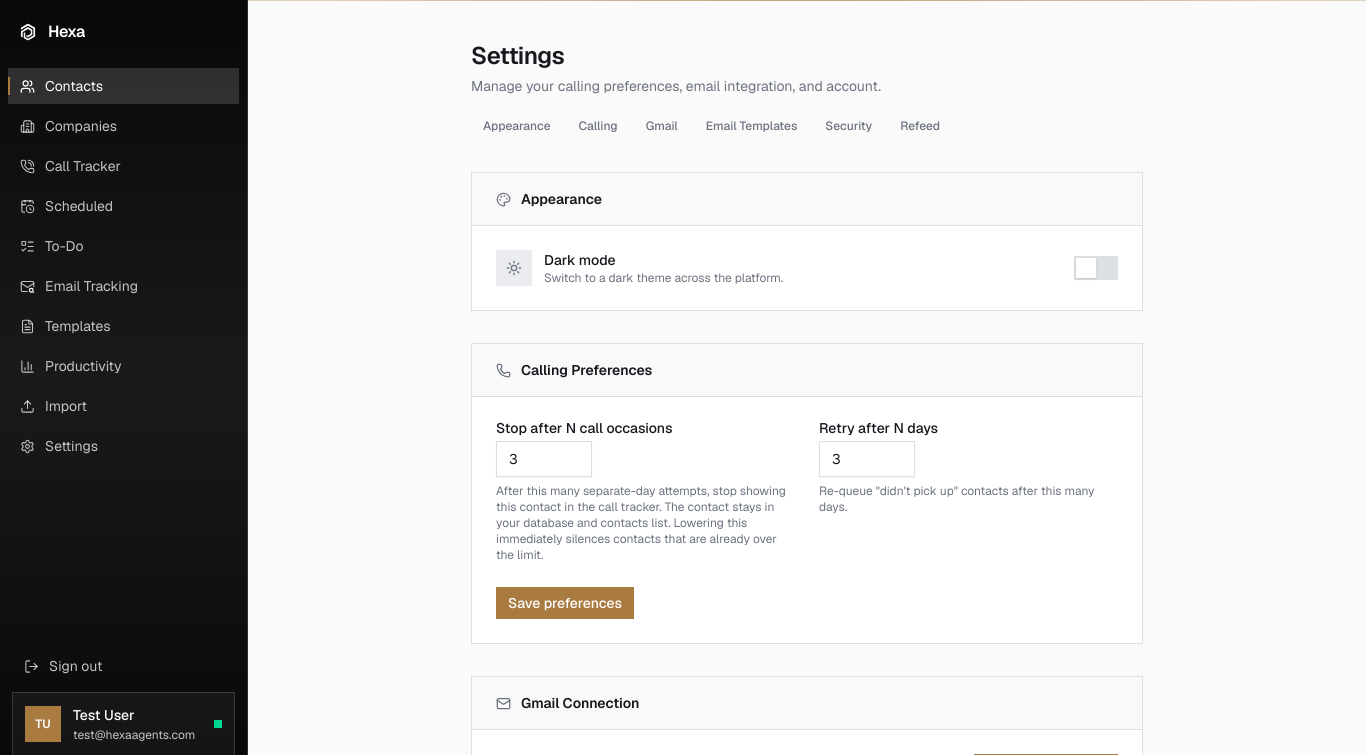
Test: SettingsPage › saves settings on click
The width and height of the screenshot is (1366, 755).
Expected: the number field labelled "Stop after N call occasions" is shown, [496,441,592,477]
What coordinates should you click on to do the following:
click the button "Save preferences"
I would click on:
 (565, 603)
Its box is [496,587,634,619].
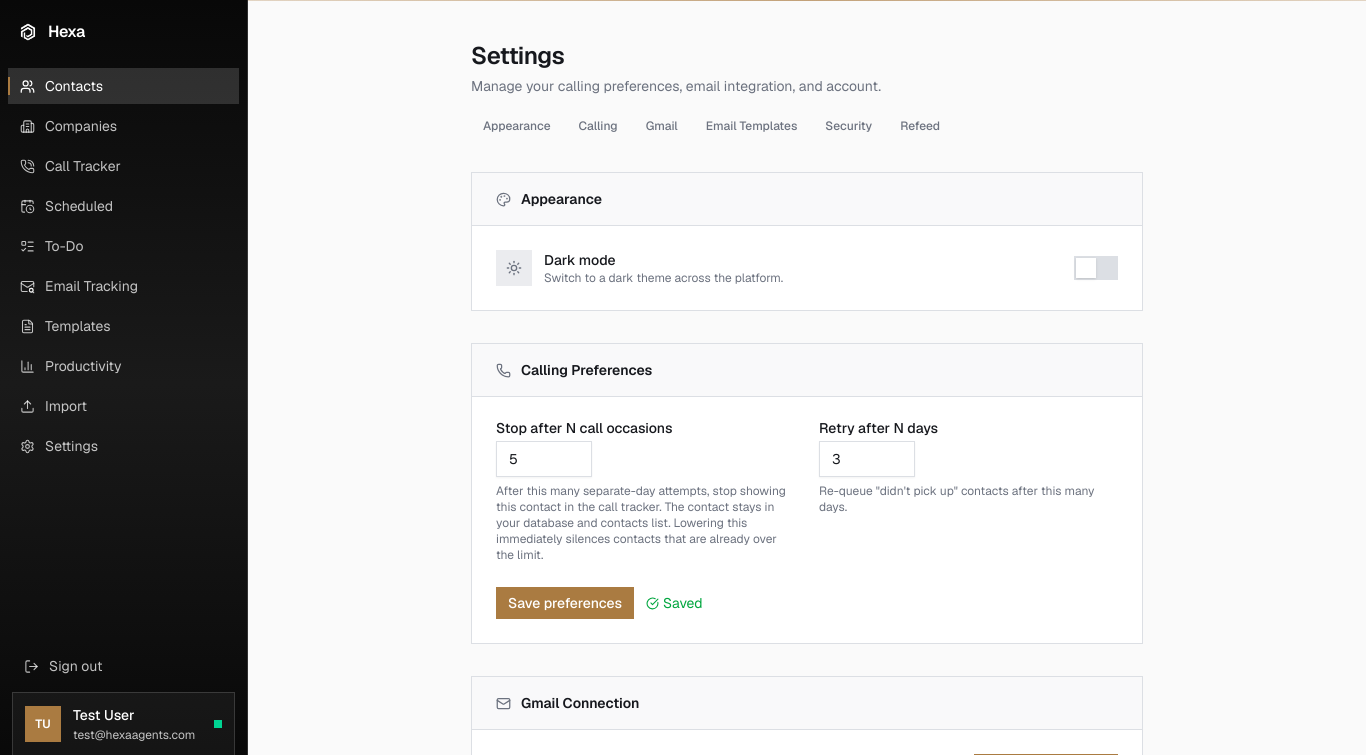
Now the text "Saved" is shown, box [646,593,703,613]
